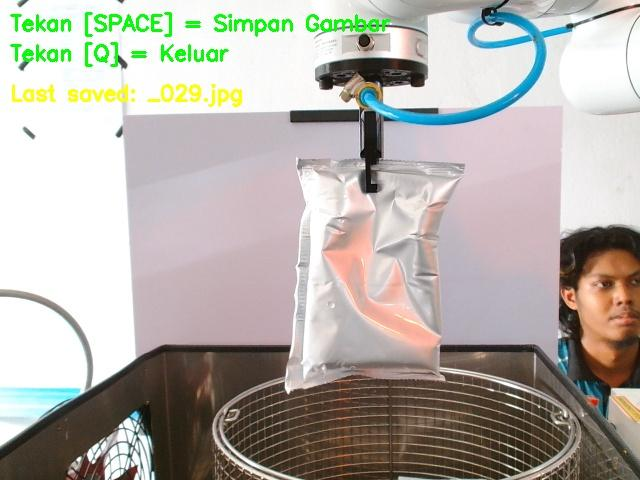retort-pouch: (279, 156, 459, 390)
